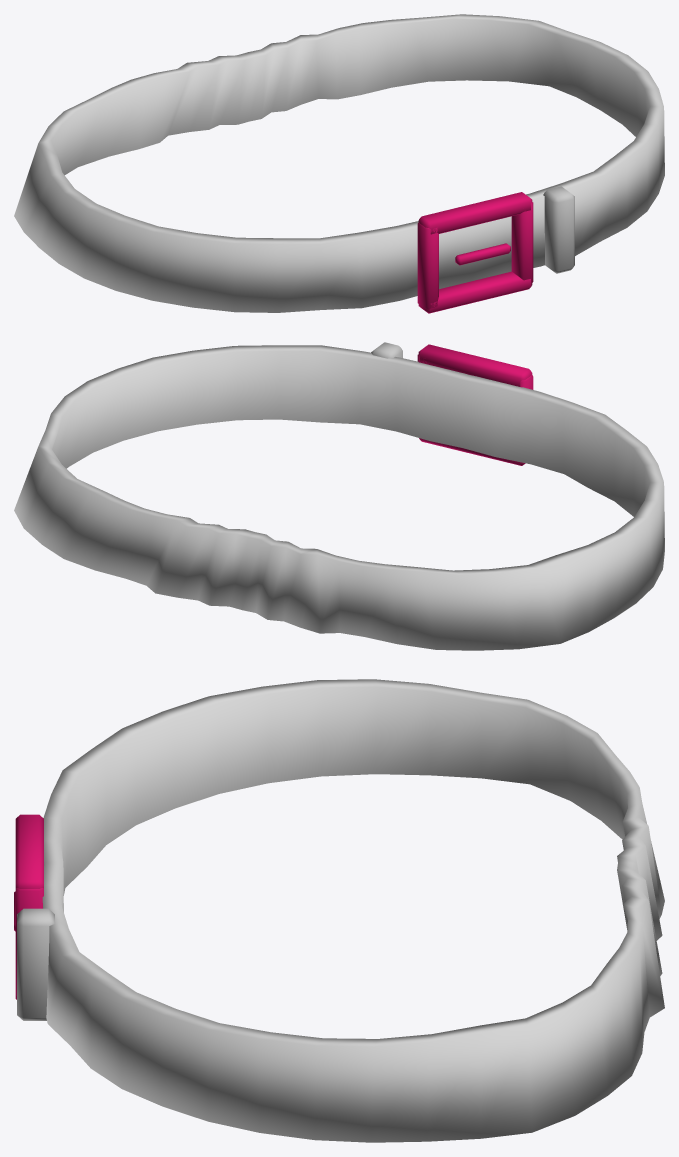
File: accessory_belt.glb
3 views of the same model, one above another, from view 1: azimuth 30°, elevation 25°; view 2: azimuth 150°, elevation 25°; view 3: azimuth 270°, elevation 25° (orthographic). The views are drawn at different scales.
Visible parts, largest first — view 1: garment_accessory_belt; view 2: garment_accessory_belt; view 3: garment_accessory_belt.
Part boxes in pixels (box(x1,y1,x2,y2)): garment_accessory_belt: box(14, 14, 664, 313); garment_accessory_belt: box(14, 342, 664, 650); garment_accessory_belt: box(14, 679, 664, 1142).
Bounding box in the file's own units: 0.282 × 0.043 × 0.2061.
